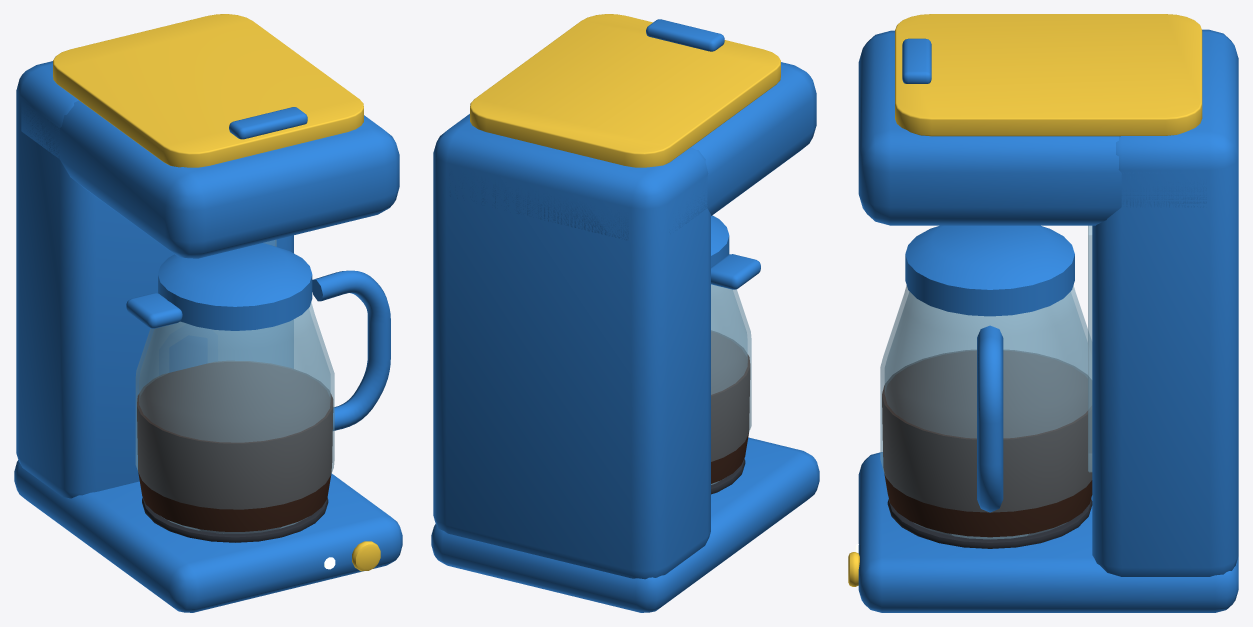
File: cafeteira_filtro_azul.glb
3 views of the same model, side by side, from view 1: azimuth 30°, elevation 25°; view 2: azimuth 150°, elevation 25°; view 3: azimuth 270°, elevation 25° (orthographic). The views are drawn at different scales.
Parts seen in each view (by area): view 1: cafeteira_filtro_azul, tampa; view 2: cafeteira_filtro_azul, tampa; view 3: cafeteira_filtro_azul, tampa.
Boxes of the visible parts, x1,y1,x2,y2 form: cafeteira_filtro_azul: (14, 61, 402, 612); tampa: (53, 14, 363, 167); cafeteira_filtro_azul: (431, 62, 819, 612); tampa: (470, 14, 780, 167); cafeteira_filtro_azul: (848, 29, 1238, 612); tampa: (895, 14, 1202, 136).
Bounding box in the file's own units: 0.234 × 0.38 × 0.267.
Materials: 3 (1 with a texture image).
